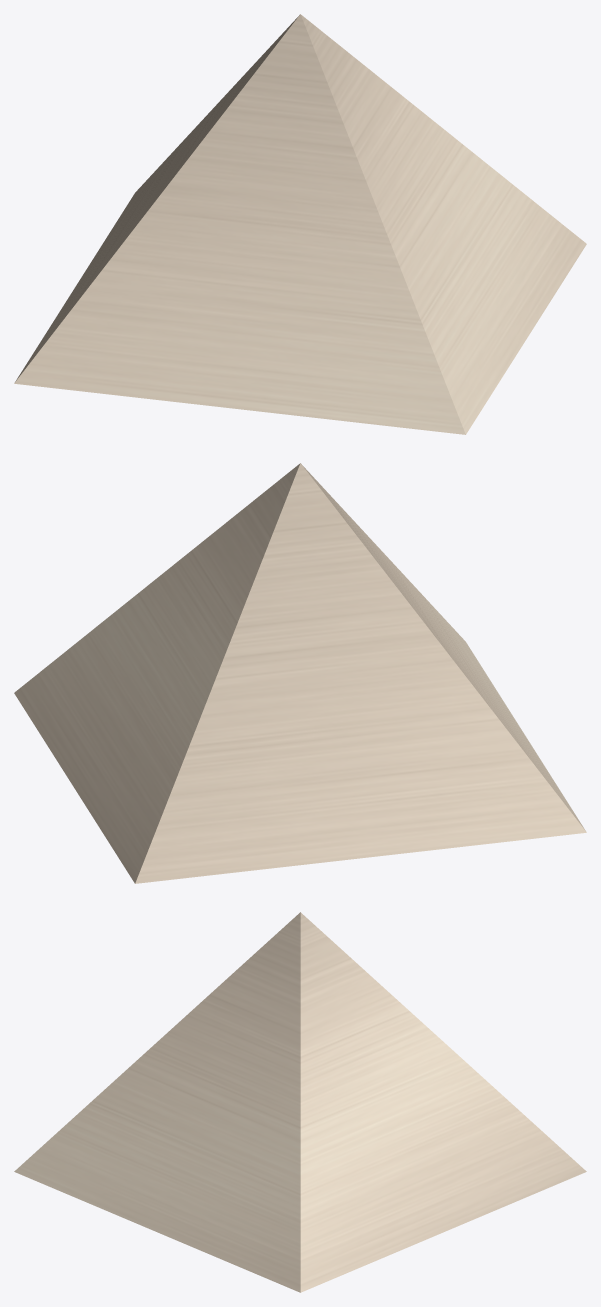
The picture shows the model from 3 angles, top to bottom: view 1: azimuth 30°, elevation 25°; view 2: azimuth 150°, elevation 25°; view 3: azimuth 270°, elevation 25°; orthographic projection. The views are drawn at different scales.
Parts seen in each view (by area): view 1: Pyramid; view 2: Pyramid; view 3: Pyramid.
Boxes of the visible parts, bbox=[...] form: Pyramid: bbox=[14, 14, 586, 434]; Pyramid: bbox=[14, 463, 586, 883]; Pyramid: bbox=[14, 912, 586, 1292].
Size of the model in its own units: 7.27 by 3.63 by 7.27.
